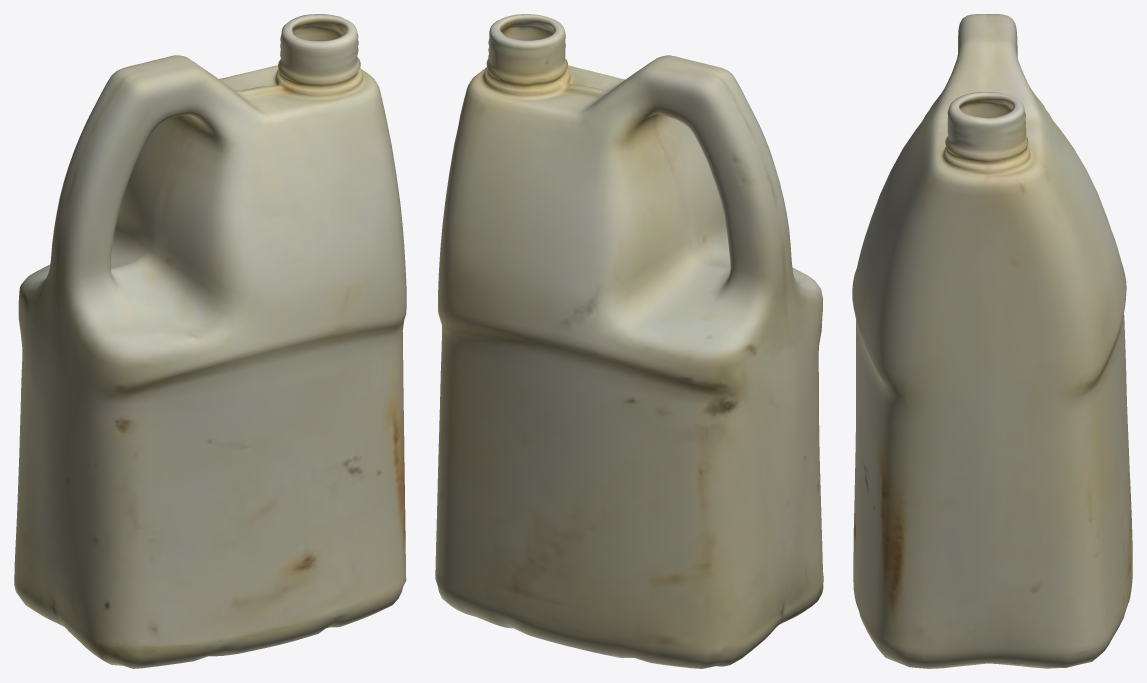
Rendered from plastic_bottle_gallon.glb.
The picture shows the model from 3 angles, left to right: view 1: azimuth 30°, elevation 25°; view 2: azimuth 150°, elevation 25°; view 3: azimuth 270°, elevation 25°; orthographic projection.
Visible parts, largest first — view 1: plastic_bottle_gallon; view 2: plastic_bottle_gallon; view 3: plastic_bottle_gallon.
Boxes of the visible parts, x1,y1,x2,y2 form: plastic_bottle_gallon: (14, 14, 406, 668); plastic_bottle_gallon: (435, 14, 823, 668); plastic_bottle_gallon: (852, 14, 1132, 668).
Size of the model in its own units: 0.1663 by 0.2745 by 0.1264.
1 material, 1 textured.
